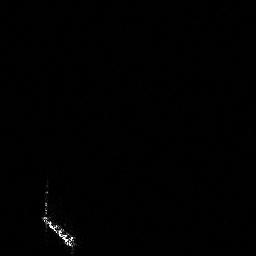ship: (37, 197, 80, 250)
